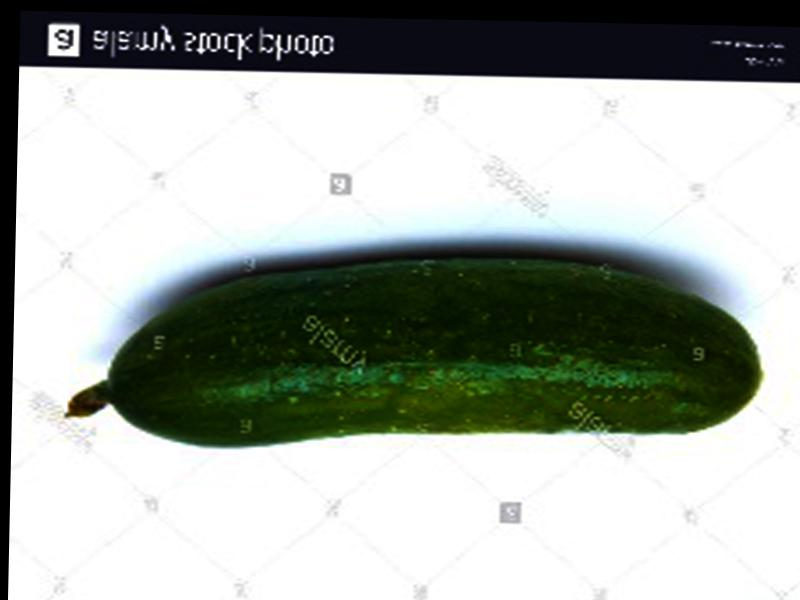Cucumber: (64, 249, 766, 459)
